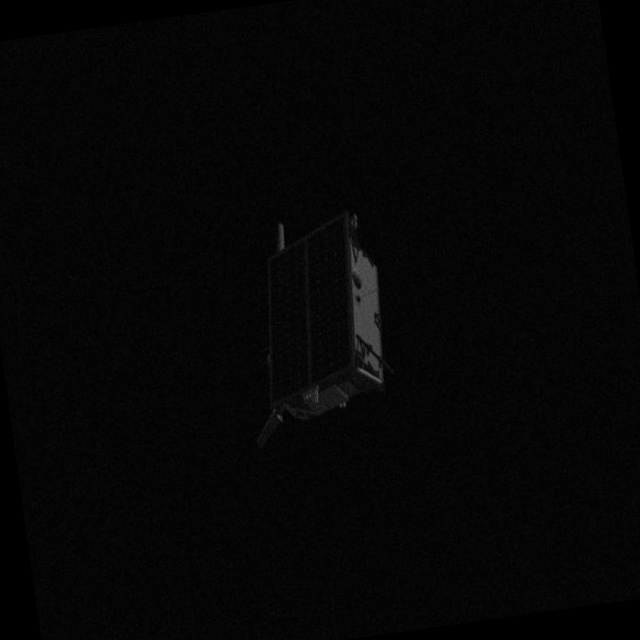satellite: (227, 195, 413, 469)
